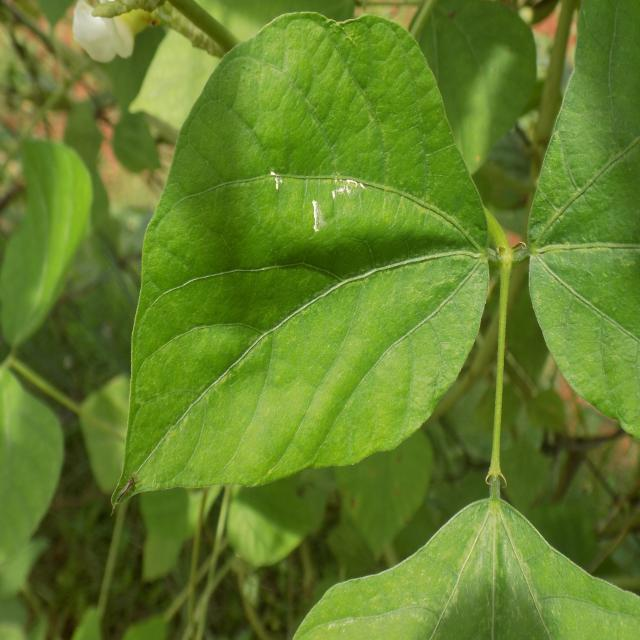Dolicos bean_healthy: (115, 11, 496, 497)
